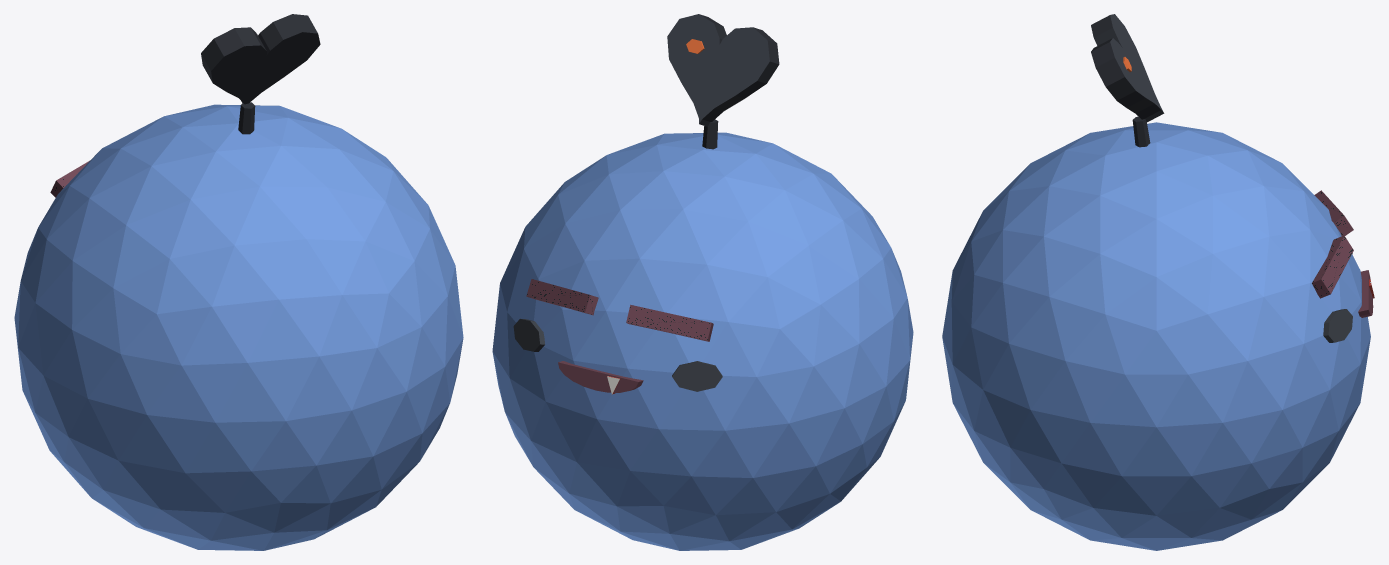
File: CH_Cano_T2_Blink.fbx
3 renders of one model, left to right at view 1: azimuth 30°, elevation 25°; view 2: azimuth 150°, elevation 25°; view 3: azimuth 270°, elevation 25°, orthographic. The views are drawn at different scales.
Visible parts, largest first — view 1: CH_Cano_T2_Blink; view 2: CH_Cano_T2_Blink; view 3: CH_Cano_T2_Blink.
Boxes of the visible parts, x1=… form: CH_Cano_T2_Blink: x1=14, y1=14, x2=463, y2=550; CH_Cano_T2_Blink: x1=492, y1=14, x2=913, y2=550; CH_Cano_T2_Blink: x1=942, y1=14, x2=1374, y2=550.
Size of the model in its own units: 1 by 1.29 by 1.01.
